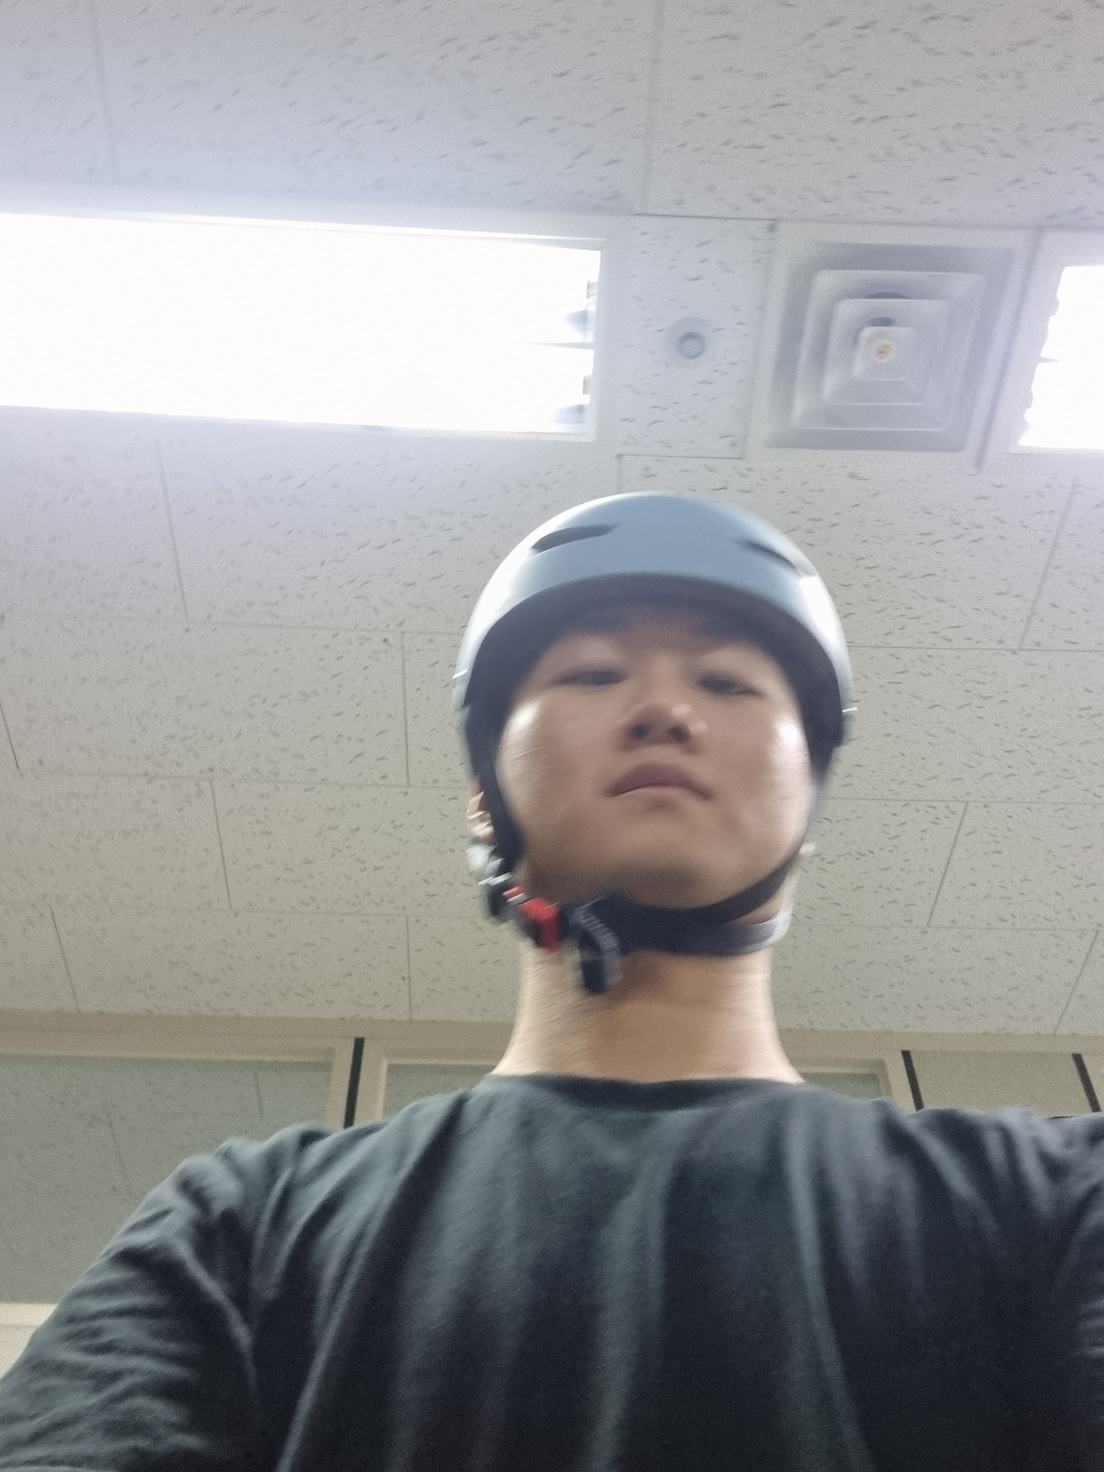Helmet: (385, 378, 886, 1037)
